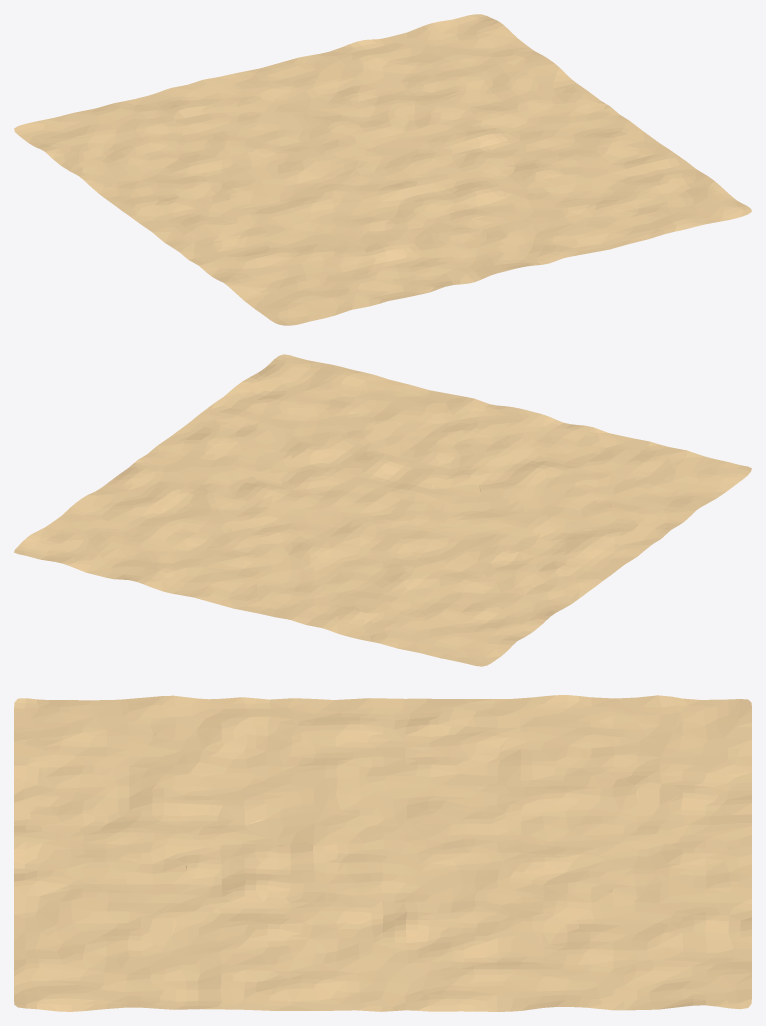
Rendered from Floor.fbx.
3 views of the same model, one above another, from view 1: azimuth 30°, elevation 25°; view 2: azimuth 150°, elevation 25°; view 3: azimuth 270°, elevation 25° (orthographic). The views are drawn at different scales.
Parts seen in each view (by area): view 1: Plane; view 2: Plane; view 3: Plane.
Boxes of the visible parts, <box> form: Plane: <box>14,14,751,325</box>; Plane: <box>14,354,751,666</box>; Plane: <box>14,695,751,1011</box>.
Size of the model in its own units: 5854 by 60.69 by 5855.
